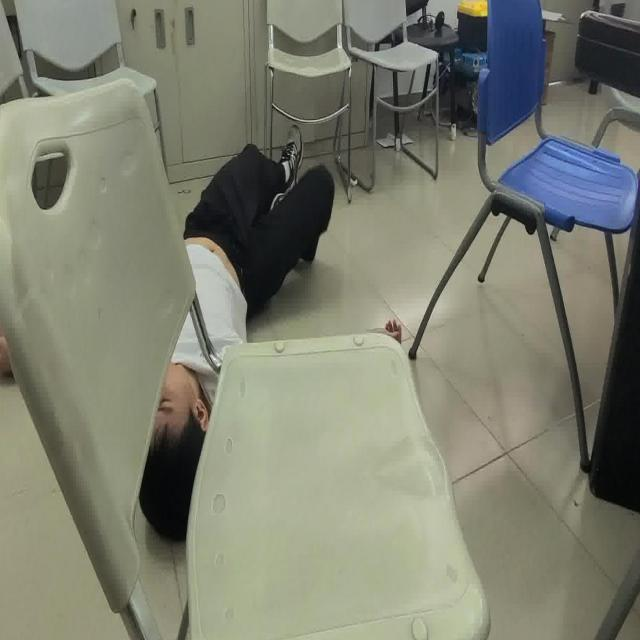fall: (1, 122, 340, 536)
